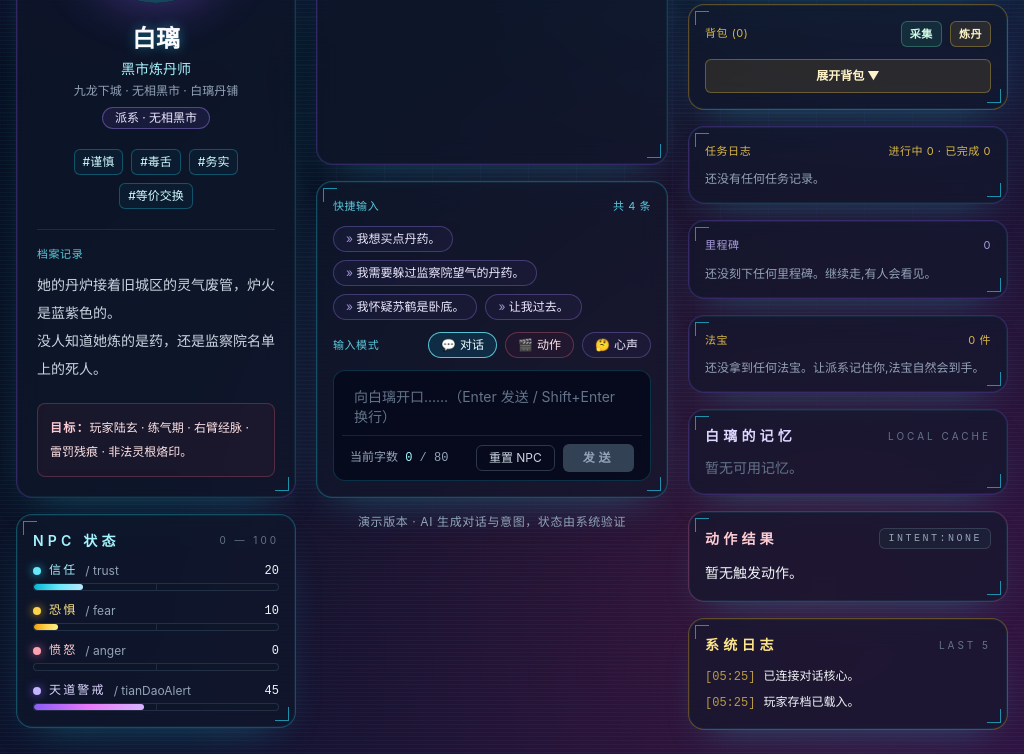
Test: App › shows a user friendly error when the API fails
(page scrolled)
Type "买药" into the text box at point(492, 407), box top-left (342, 379), bottom-right (642, 435)
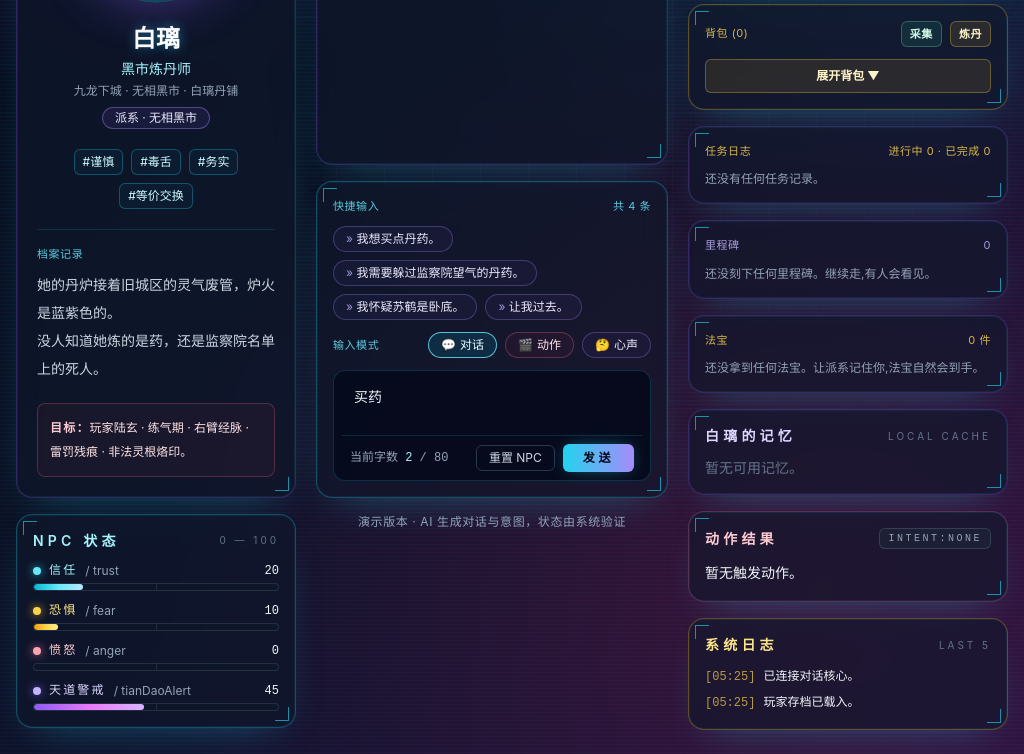
Click the button "发送" at point(598, 458), box top-left (563, 444), bottom-right (634, 472)
(page scrolled)
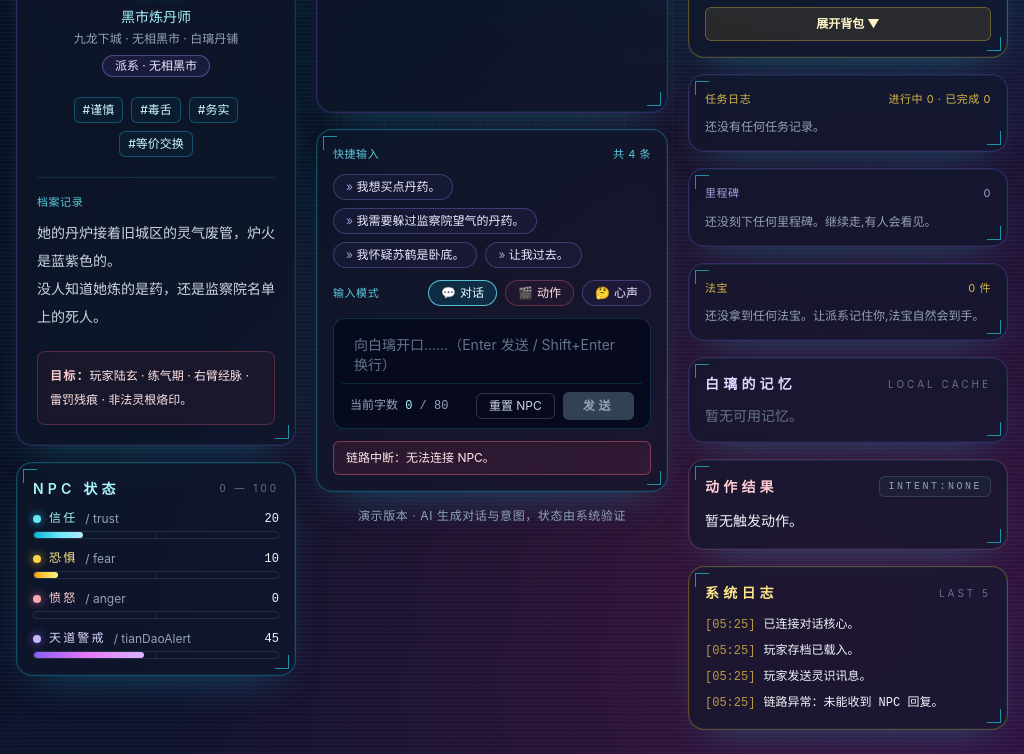
Expected: the text "链路中断：无法连接 NPC。" is shown, top-left (333, 441), bottom-right (651, 475)
